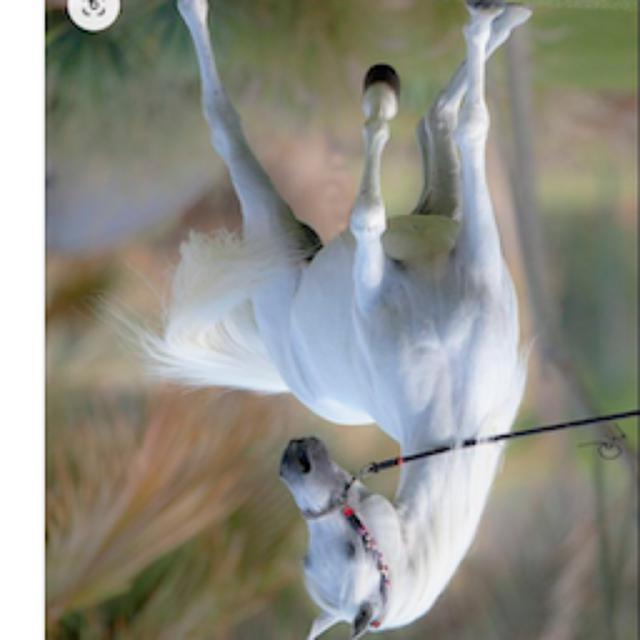Horse: (107, 2, 545, 640)
